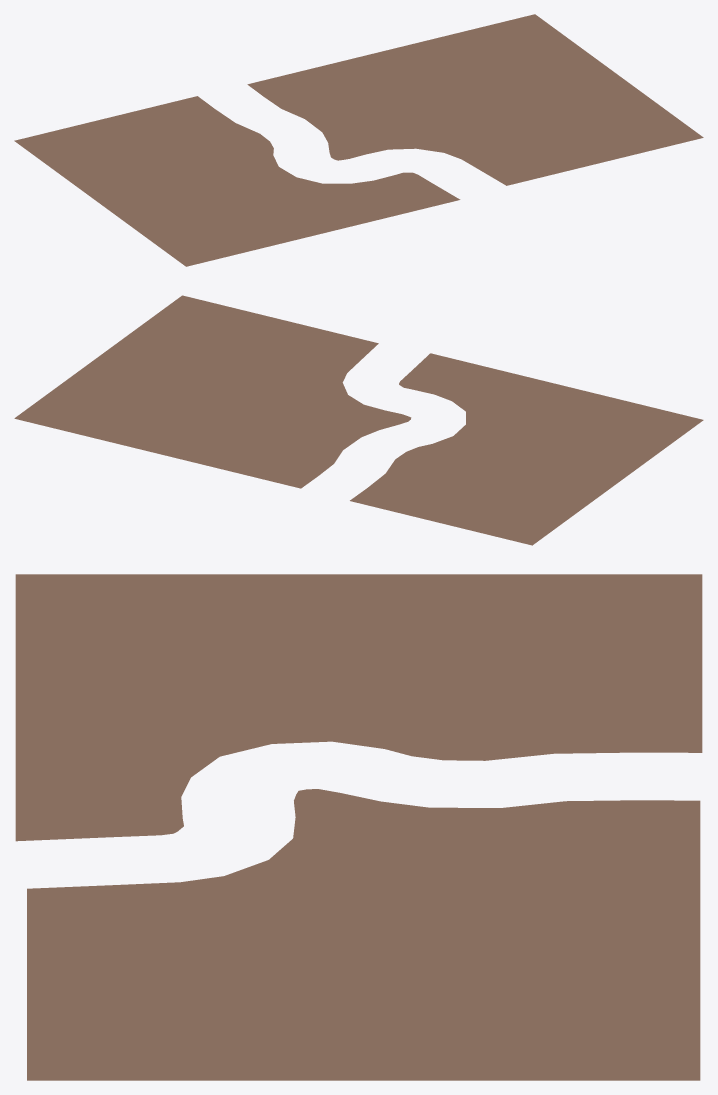
File: Contraint.fbx
3 renders of one model, top to bottom at view 1: azimuth 30°, elevation 25°; view 2: azimuth 150°, elevation 25°; view 3: azimuth 270°, elevation 25°, orthographic. The views are drawn at different scales.
Parts seen in each view (by area): view 1: Constraints; view 2: Constraints; view 3: Constraints.
Part boxes in pixels (x1=…): Constraints: x1=14, y1=14, x2=703, y2=266; Constraints: x1=14, y1=295, x2=703, y2=545; Constraints: x1=15, y1=574, x2=702, y2=1080.
Bounding box in the file's own units: 5943 × 0.000615 × 3404.
